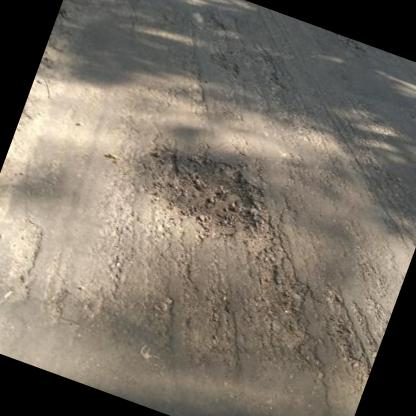pothole: (130, 134, 278, 250)
